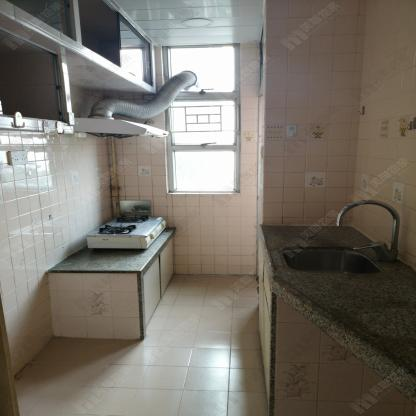Exhaust Hood: (75, 71, 194, 137)
Faucet: (336, 191, 401, 254)
Sink: (287, 248, 383, 276)
Stove: (87, 215, 167, 249)
